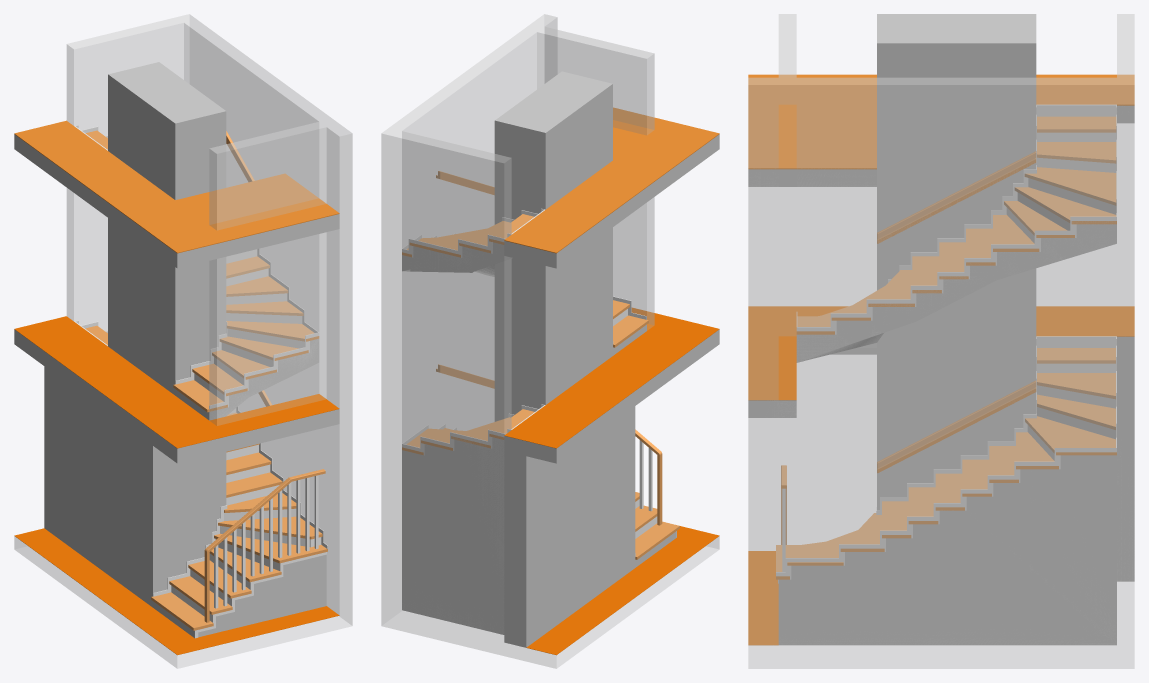
The model's file is устройство лестницы на бетонном основании.obj.
3 views of the same model, side by side, from view 1: azimuth 30°, elevation 25°; view 2: azimuth 150°, elevation 25°; view 3: azimuth 270°, elevation 25° (orthographic). The views are drawn at different scales.
Bounding box in the file's own units: 2.68 × 7.2 × 4.32.
